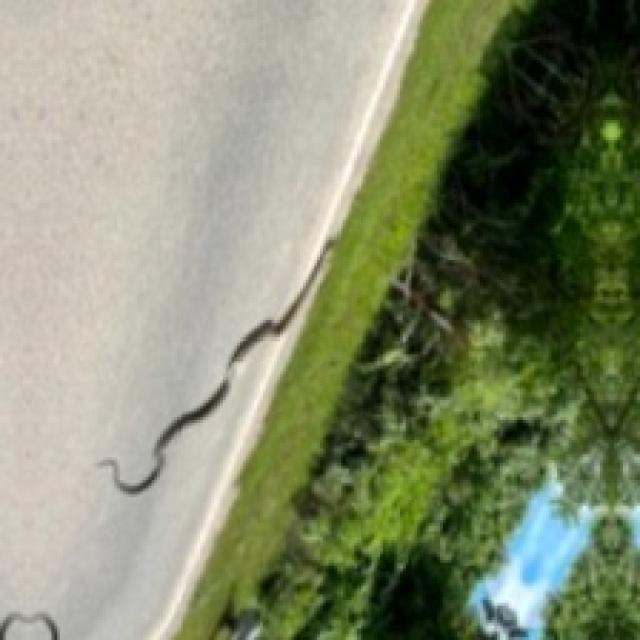king cobra: (97, 240, 331, 491)
